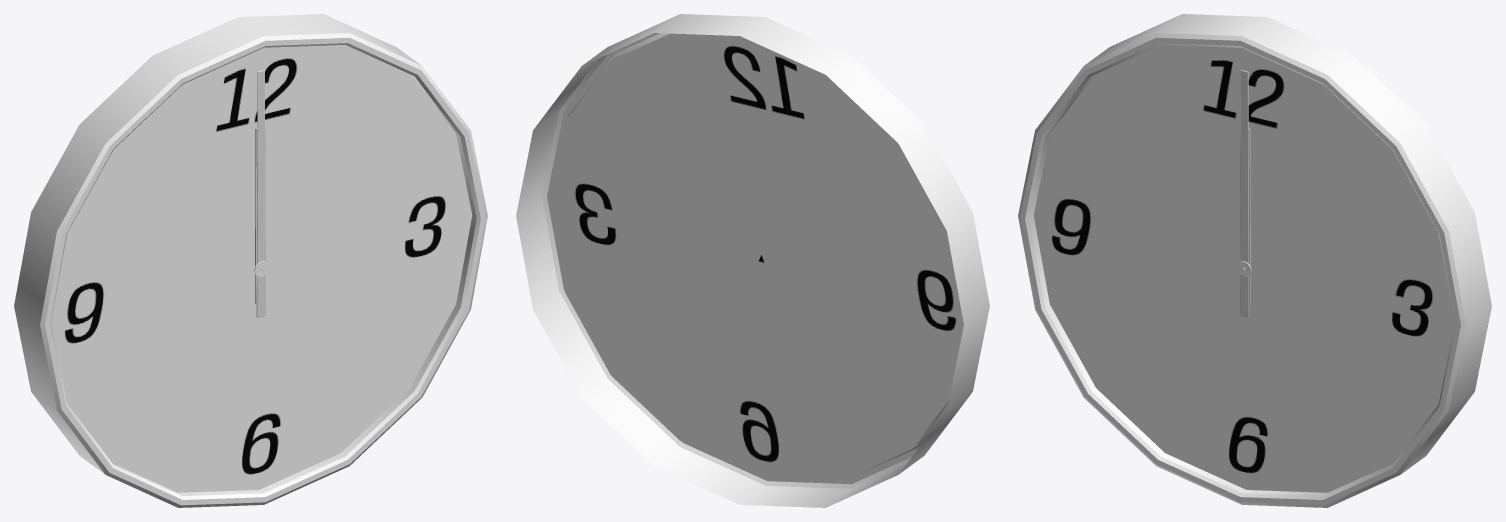
Rendered from clock.fbx.
3 views of the same model, side by side, from view 1: azimuth 30°, elevation 25°; view 2: azimuth 150°, elevation 25°; view 3: azimuth 330°, elevation 25° (orthographic).
Parts seen in each view (by area): view 1: clock_frame, minute_hand; view 2: clock_frame; view 3: clock_frame, minute_hand.
Part boxes in pixels (box(x1,y1,x2,y2)): clock_frame: box(14, 14, 487, 507); minute_hand: box(256, 70, 265, 317); clock_frame: box(516, 14, 989, 507); clock_frame: box(1018, 14, 1491, 507); minute_hand: box(1240, 70, 1249, 317).
Size of the model in its own units: 25.99 by 25.99 by 2.76.
